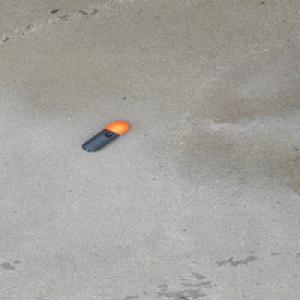PlasticPart: (80, 121, 130, 152)
